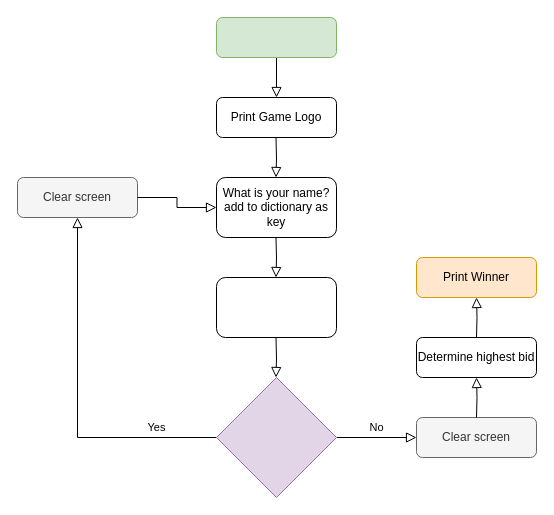
The diagram is 554 pixels wide and 515 high, and some of its shapes have lost their labels. The box of each missing label's shape, as (x1, y1, x2, y2) in pixels:
Are there any other bidders?: (216, 376, 336, 498)
Start: (216, 16, 336, 58)
What is your bid? add to dictionary as value: (216, 276, 336, 338)
